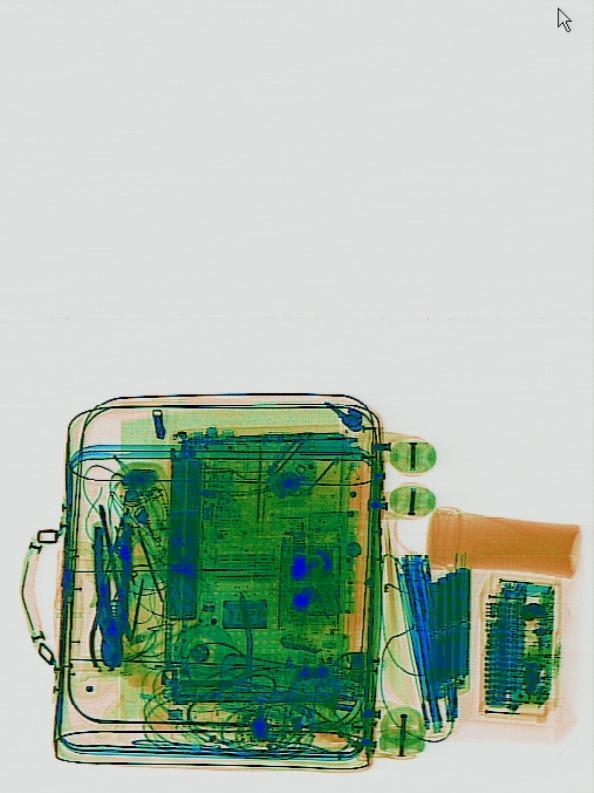Pliers: (89, 525, 133, 667), (87, 574, 118, 670)
